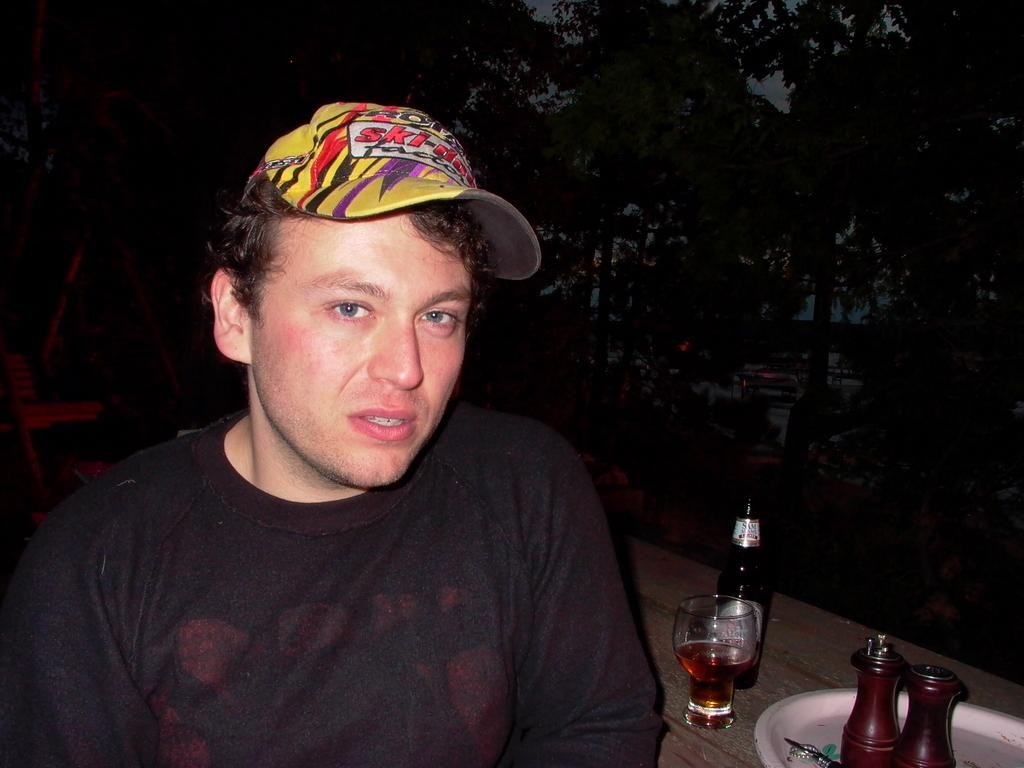Hat: (244, 98, 544, 280)
